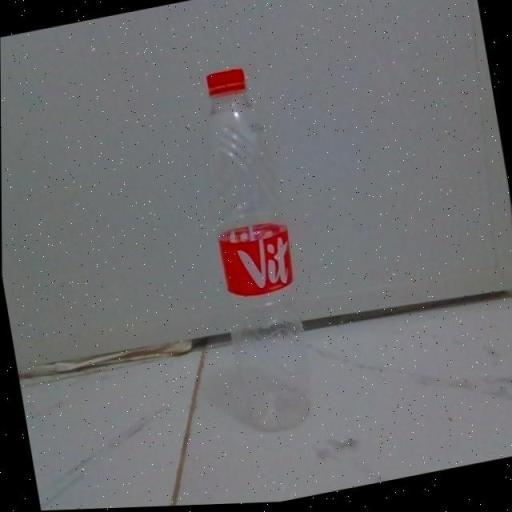plastic: (186, 60, 320, 439)
